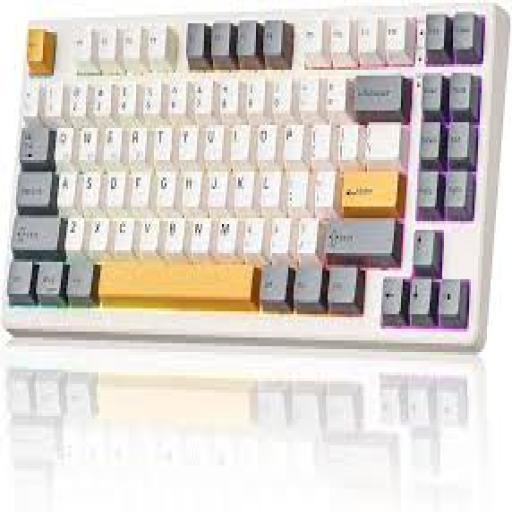KEYBOARD-2: (0, 6, 508, 349)
